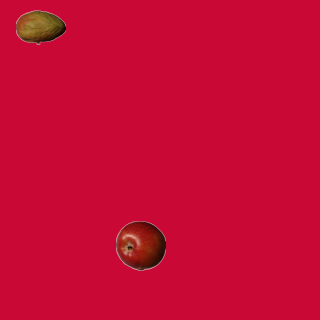Apple Braeburn: (115, 220, 165, 270)
Papaya: (15, 2, 65, 52)
